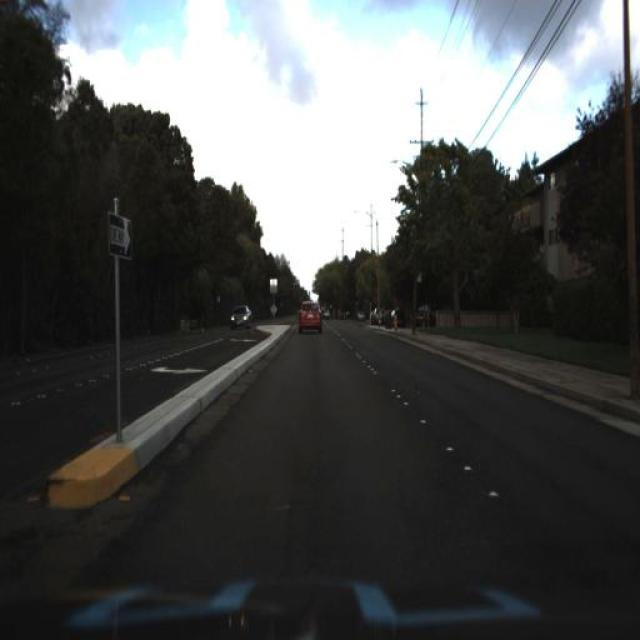car: (223, 303, 259, 337), (298, 296, 324, 336), (230, 304, 250, 328)
